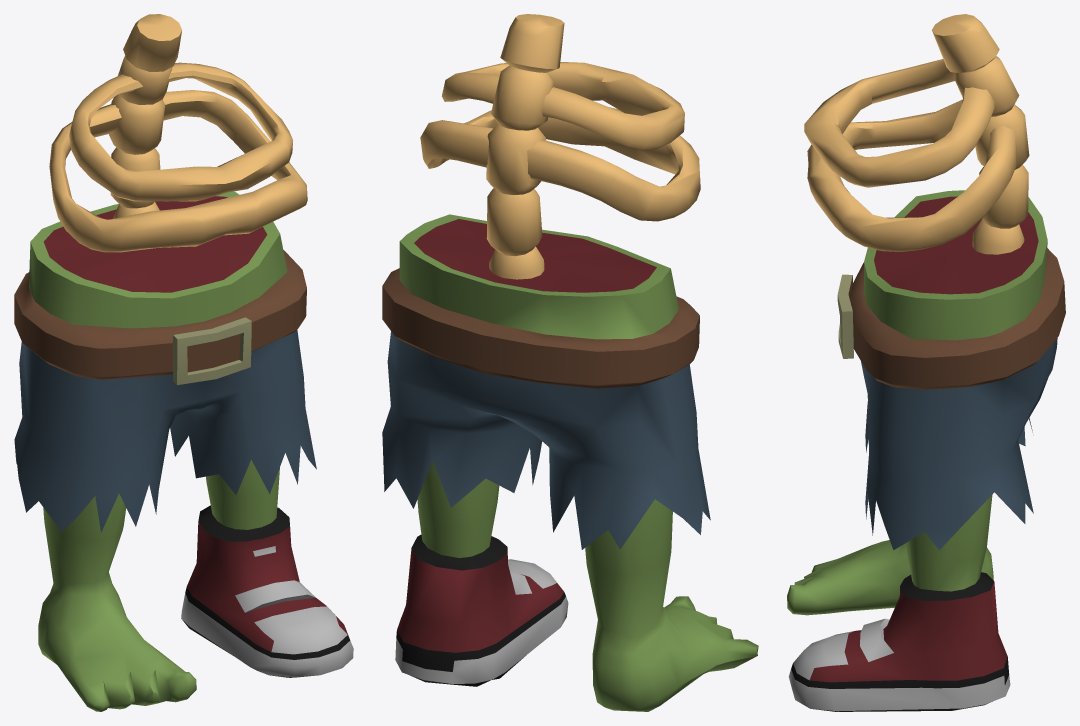
Rendered from cc0-zombie-ribcage-lod1.glb.
3 views of the same model, side by side, from view 1: azimuth 30°, elevation 25°; view 2: azimuth 150°, elevation 25°; view 3: azimuth 270°, elevation 25° (orthographic). The views are drawn at different scales.
Parts seen in each view (by area): view 1: part_11; view 2: part_11; view 3: part_11.
Boxes of the visible parts, x1=… form: part_11: x1=14, y1=14, x2=353, y2=711; part_11: x1=382, y1=14, x2=758, y2=711; part_11: x1=787, y1=14, x2=1065, y2=711.
Bounding box in the file's own units: 0.5066 × 1.06 × 0.4251.
1 material, 1 textured.
